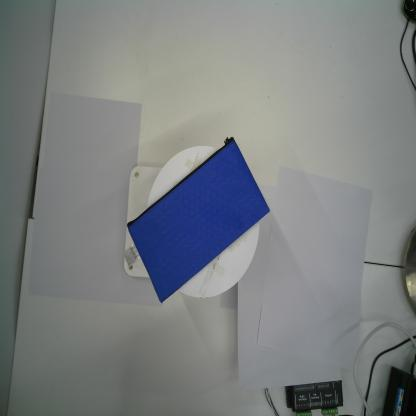Stationery: (127, 135, 270, 304)
